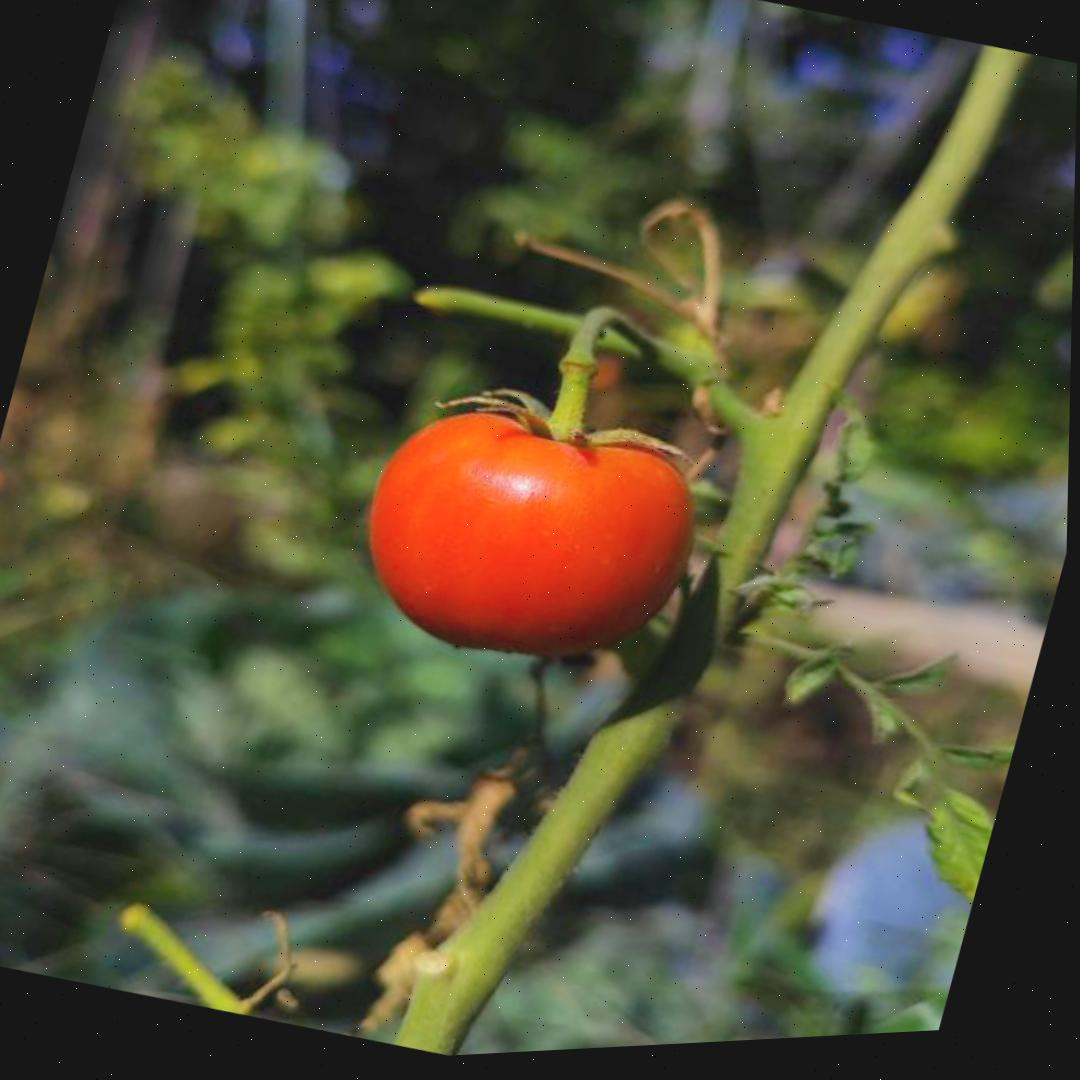matang: (329, 368, 723, 705)
